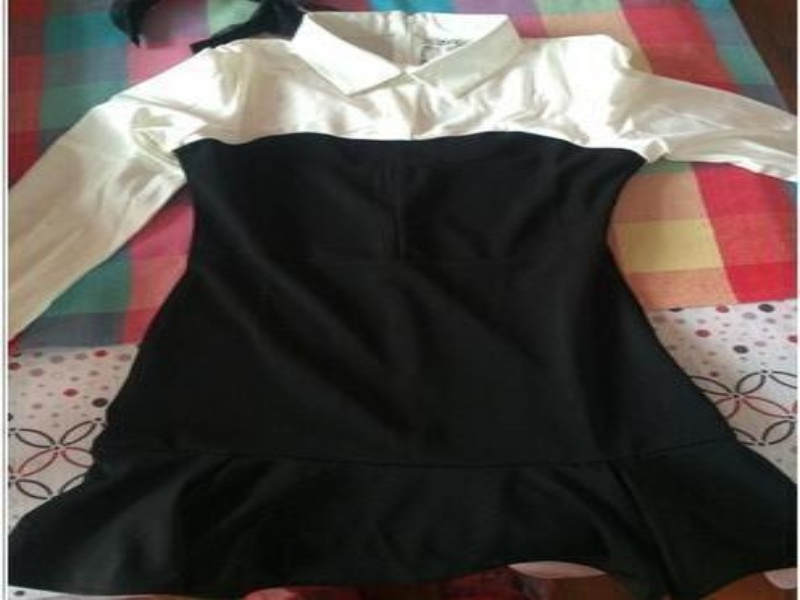long_sleeved_dress: (0, 11, 797, 598)
